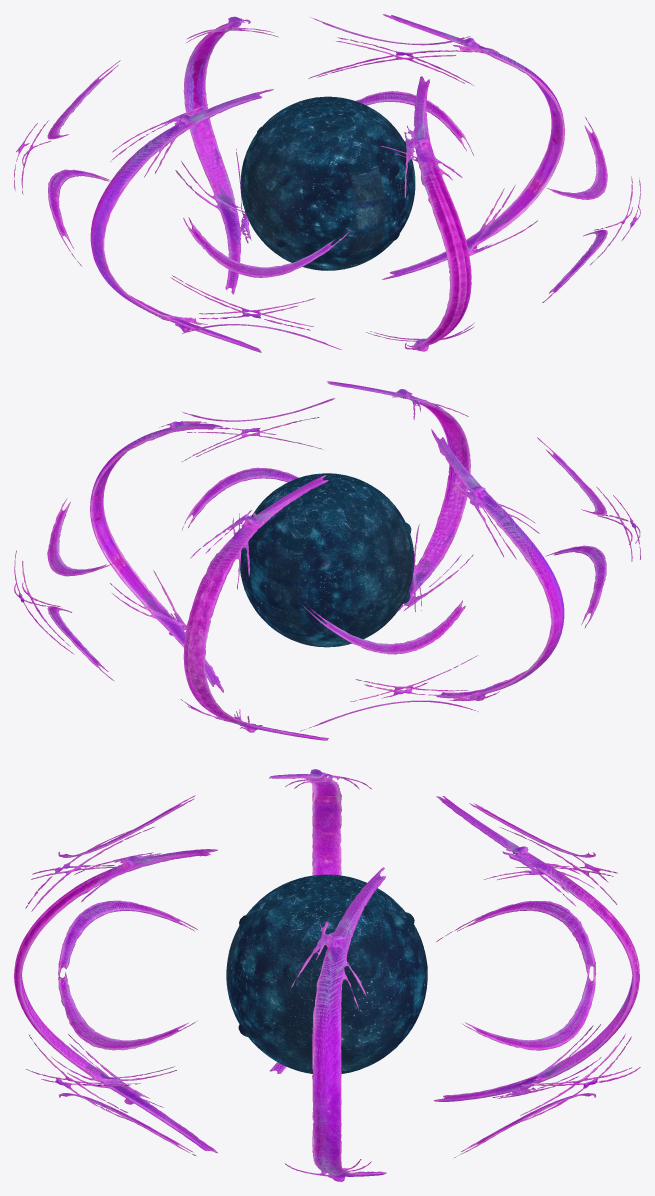
Rendered from magnetar.glb.
The picture shows the model from 3 angles, top to bottom: view 1: azimuth 30°, elevation 25°; view 2: azimuth 150°, elevation 25°; view 3: azimuth 270°, elevation 25°; orthographic projection. The views are drawn at different scales.
Size of the model in its own units: 1.89 by 1.02 by 1.89.
Materials: 1 (1 with a texture image).
